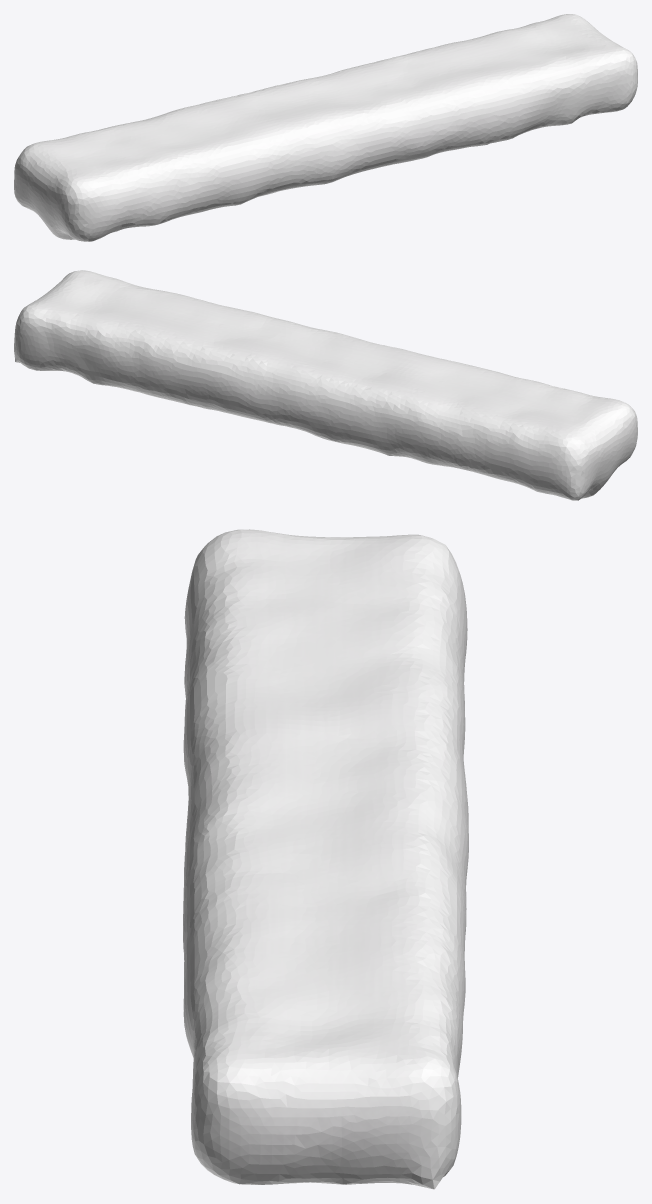
The model's file is arm_refined.glb.
3 renders of one model, top to bottom at view 1: azimuth 30°, elevation 25°; view 2: azimuth 150°, elevation 25°; view 3: azimuth 270°, elevation 25°, orthographic. The views are drawn at different scales.
Bounding box in the file's own units: 13.14 × 1.77 × 2.83.
Materials: 1 (1 with a texture image).
